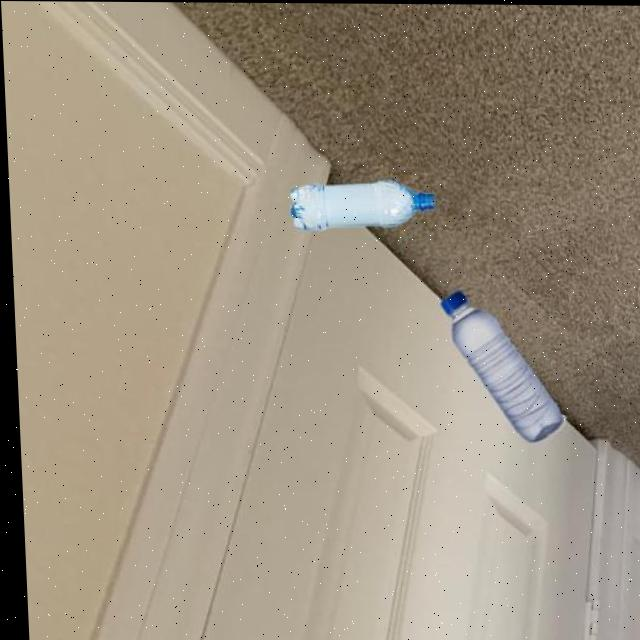bottle: (436, 288, 564, 443), (286, 177, 436, 233)
